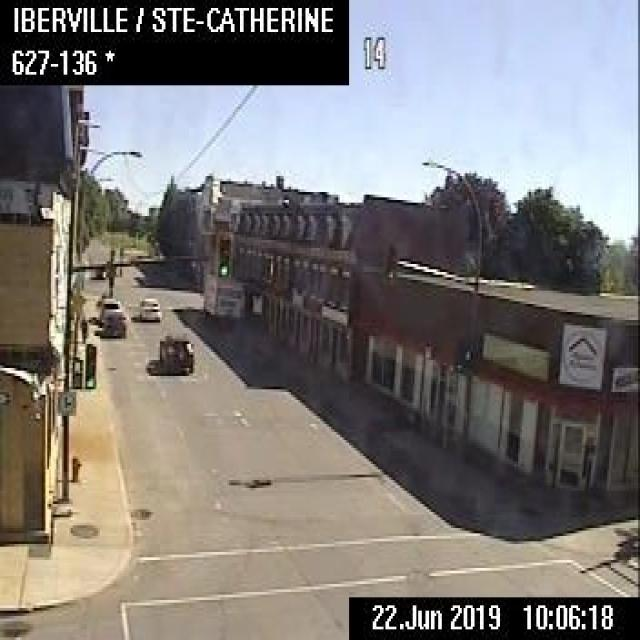pedestrian: (79, 314, 87, 342)
vehicle: (200, 273, 242, 320), (158, 330, 193, 373), (100, 309, 126, 336), (96, 296, 122, 322), (137, 295, 161, 320)
